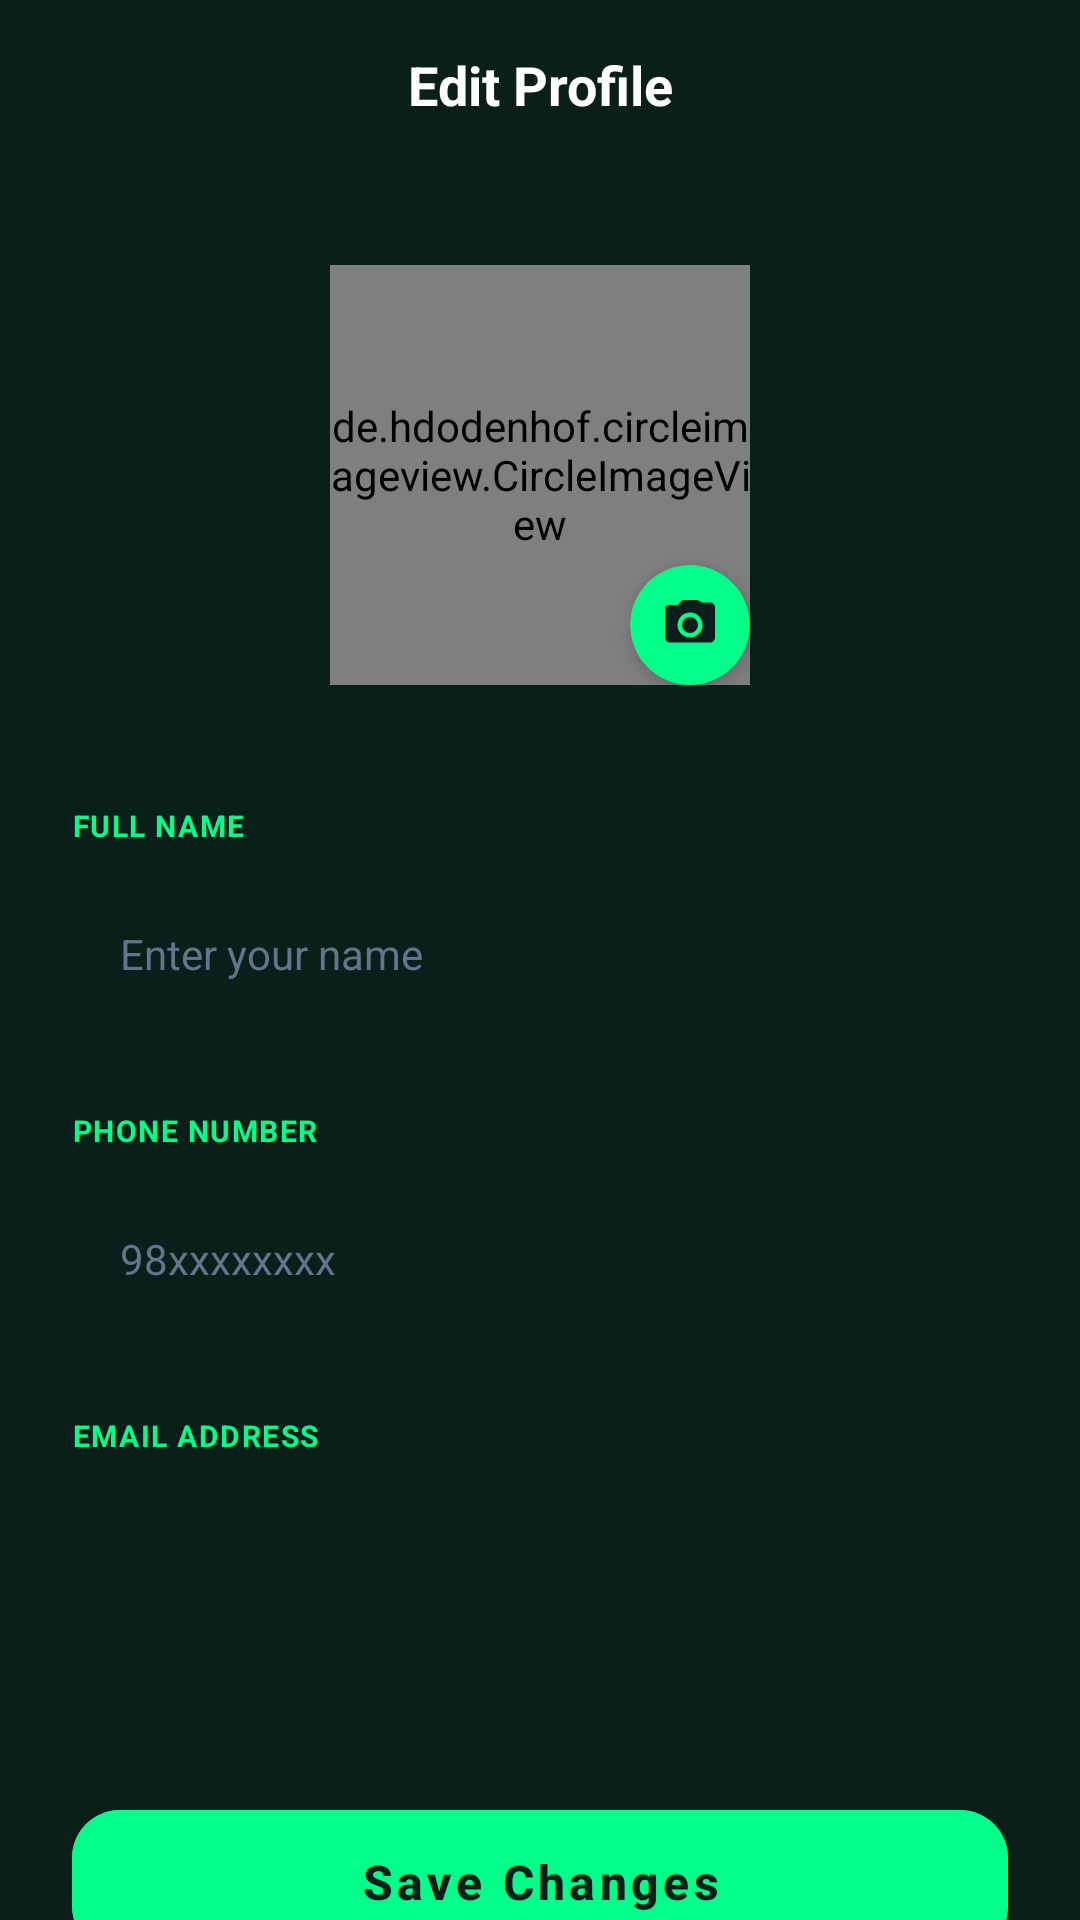

Screen size 1080 x 1920. Icon name, then its box in pixels as (x1, y1, x2, y2):
camera: (665, 600, 715, 643)
